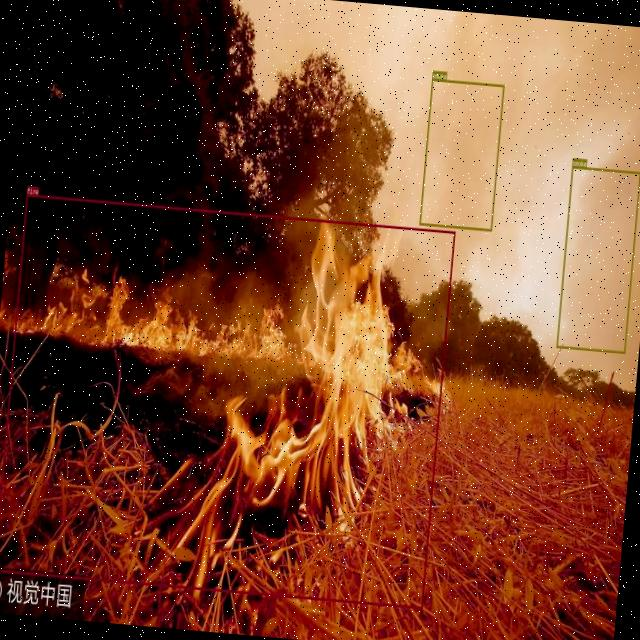fire: (0, 193, 454, 608)
smoke: (555, 165, 640, 353), (418, 78, 504, 230)
